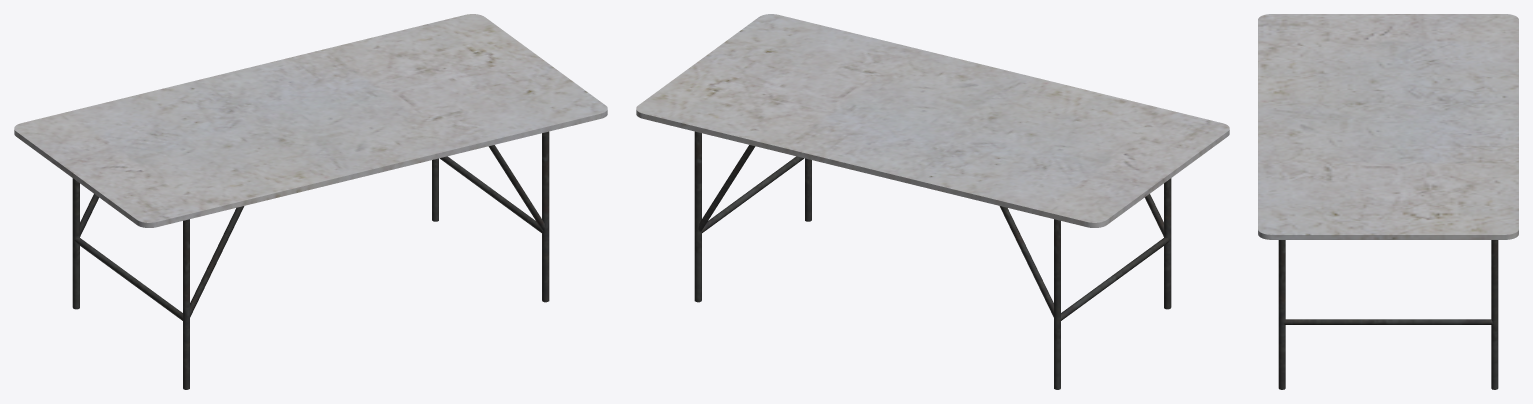
Rendered from MiniBR_Table001.fbx.
The picture shows the model from 3 angles, left to right: view 1: azimuth 30°, elevation 25°; view 2: azimuth 150°, elevation 25°; view 3: azimuth 270°, elevation 25°; orthographic projection. The views are drawn at different scales.
Visible parts, largest first — view 1: MiniBR_Table001; view 2: MiniBR_Table001; view 3: MiniBR_Table001.
Part boxes in pixels (<box>): MiniBR_Table001: <box>14,14,607,389</box>; MiniBR_Table001: <box>636,14,1229,389</box>; MiniBR_Table001: <box>1258,14,1518,389</box>.
Bounding box in the file's own units: 305 × 152 × 116.
1 material, 1 textured.
